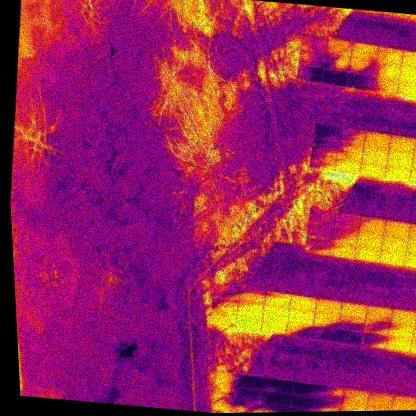Diode: (363, 404, 390, 411)
Hotspot: (330, 226, 359, 245), (306, 223, 334, 242), (304, 238, 331, 256)
Normal: (360, 146, 389, 166), (388, 134, 416, 154), (382, 220, 411, 239), (327, 241, 356, 260), (350, 40, 379, 59), (353, 244, 382, 262), (384, 335, 413, 353), (364, 131, 391, 150), (339, 301, 369, 318), (357, 216, 385, 234), (356, 231, 384, 249), (380, 234, 408, 252), (288, 295, 317, 312), (314, 299, 343, 316), (386, 150, 413, 168), (379, 247, 406, 265), (333, 158, 361, 175), (236, 302, 264, 319), (235, 314, 263, 331), (260, 318, 288, 335), (389, 309, 416, 326), (262, 306, 290, 322), (341, 388, 369, 404), (384, 164, 410, 181), (286, 309, 315, 324), (367, 391, 394, 407), (360, 162, 386, 178), (391, 395, 416, 411), (394, 80, 416, 98), (339, 399, 367, 411), (398, 65, 416, 83), (400, 50, 416, 70), (402, 250, 416, 267), (387, 406, 416, 411)
Shadow: (348, 56, 378, 77), (313, 122, 342, 143), (323, 52, 352, 73), (307, 151, 337, 171), (298, 48, 326, 69), (375, 46, 404, 66), (346, 72, 376, 91), (300, 33, 328, 53), (325, 36, 353, 56), (321, 68, 350, 87), (262, 291, 292, 309), (311, 312, 341, 330), (308, 208, 336, 227), (238, 286, 266, 305), (338, 314, 366, 333), (296, 64, 324, 83), (310, 139, 339, 157), (289, 380, 318, 398), (339, 128, 366, 147), (337, 143, 364, 162), (333, 212, 360, 231), (362, 319, 390, 337), (239, 374, 267, 392), (211, 284, 240, 301), (365, 306, 394, 323), (386, 321, 415, 338), (284, 321, 313, 338), (237, 388, 266, 405), (266, 377, 293, 395), (317, 384, 345, 401), (372, 77, 398, 95), (210, 311, 237, 328), (311, 326, 339, 342), (360, 333, 388, 349), (289, 395, 317, 411), (212, 298, 238, 315), (336, 329, 363, 345), (214, 372, 241, 388), (214, 384, 241, 400), (374, 63, 399, 80), (315, 397, 342, 412), (212, 397, 239, 412), (265, 392, 290, 407), (237, 401, 266, 413), (264, 405, 290, 412), (288, 407, 316, 412)
